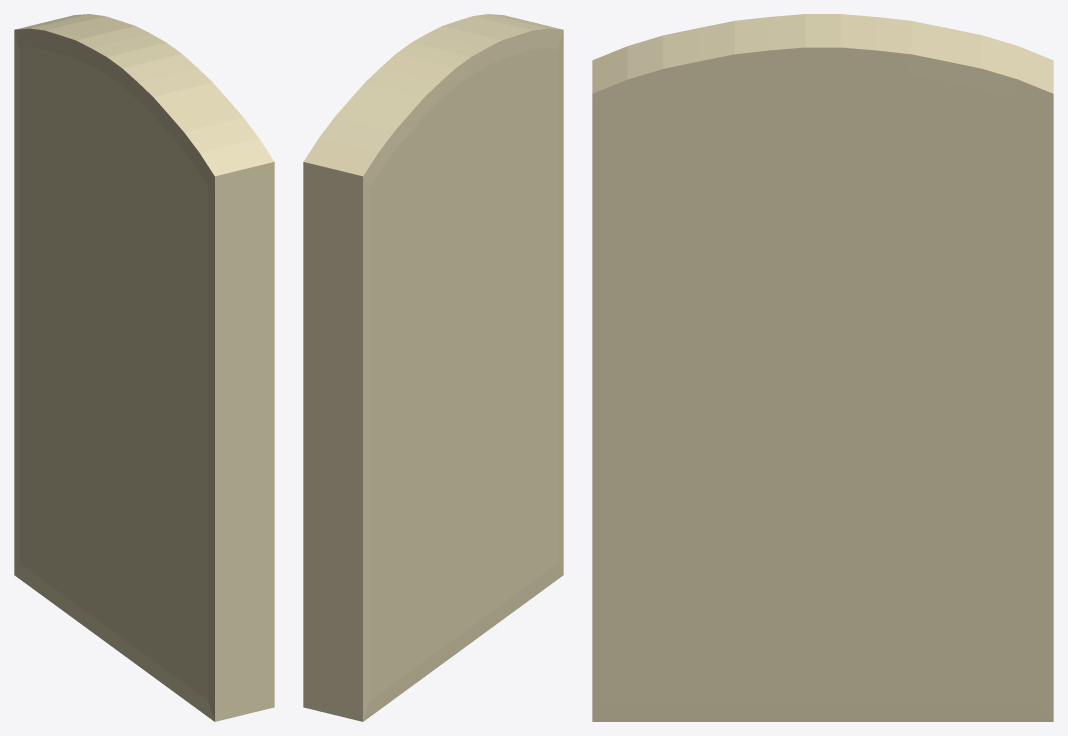
File: Frame.gltf
The picture shows the model from 3 angles, left to right: view 1: azimuth 30°, elevation 25°; view 2: azimuth 150°, elevation 25°; view 3: azimuth 270°, elevation 25°; orthographic projection. The views are drawn at different scales.
Parts seen in each view (by area): view 1: Cube; view 2: Cube; view 3: Cube.
Boxes of the visible parts, <box> form: Cube: <box>14,14,274,721</box>; Cube: <box>303,14,563,721</box>; Cube: <box>592,14,1053,721</box>.
Bounding box in the file's own units: 0.3691 × 3.42 × 2.12.
